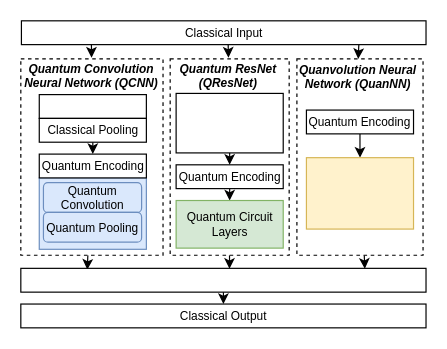
Some shapes in this 447 by 349 pixel diagram are drawn without their labels. Each missing label, with the box of its shape:
Classical Layer: (20, 267, 426, 292)
Classical Pretrained ResNet18: (175, 92, 283, 153)
Convolution Layer: (38, 93, 146, 118)
Quanvolution Layer (Quantum Circuit Kernel): (305, 156, 414, 229)
